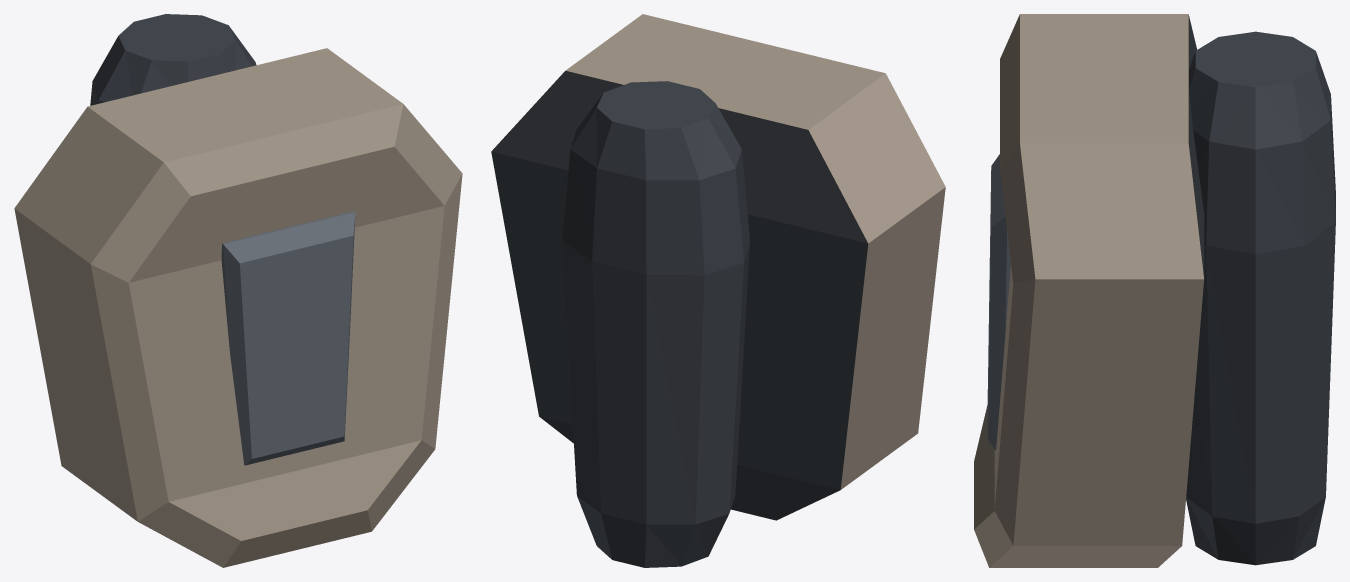
Rendered from shin_medium.glb.
3 views of the same model, side by side, from view 1: azimuth 30°, elevation 25°; view 2: azimuth 150°, elevation 25°; view 3: azimuth 270°, elevation 25° (orthographic). The views are drawn at different scales.
Visible parts, largest first — view 1: shin_medium; view 2: shin_medium; view 3: shin_medium.
Part boxes in pixels (<box>): shin_medium: <box>14,14,462,567</box>; shin_medium: <box>491,14,945,567</box>; shin_medium: <box>974,14,1335,567</box>.
Size of the model in its own units: 0.9 by 1 by 0.6864.
